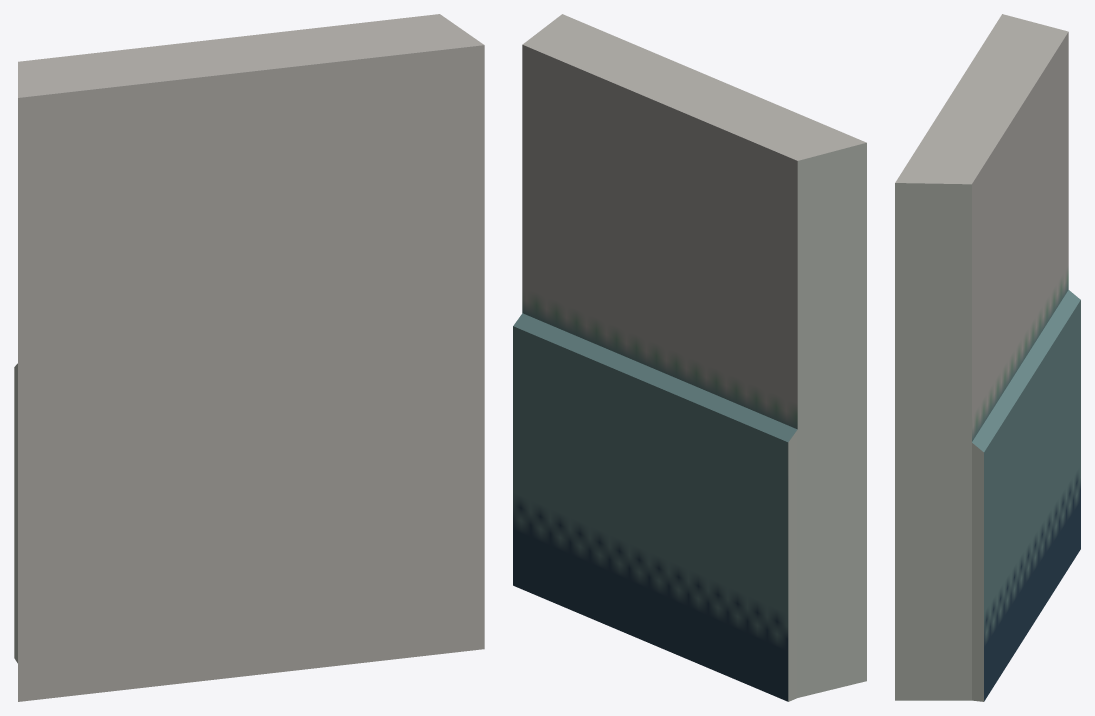
Rendered from plain_wall (1).fbx.
3 renders of one model, left to right at view 1: azimuth 30°, elevation 25°; view 2: azimuth 150°, elevation 25°; view 3: azimuth 270°, elevation 25°, orthographic. The views are drawn at different scales.
Visible parts, largest first — view 1: plain_wall; view 2: plain_wall; view 3: plain_wall.
Part boxes in pixels (<box>): plain_wall: <box>14,14,484,701</box>; plain_wall: <box>513,14,866,701</box>; plain_wall: <box>895,14,1080,701</box>.
Bounding box in the file's own units: 113 × 160 × 51.97.
1 material, 1 textured.
